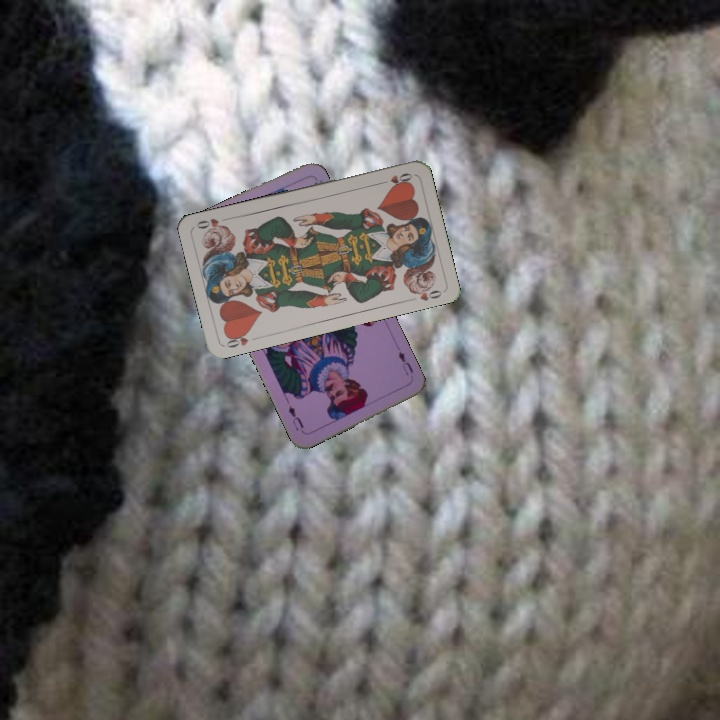EU: (394, 347, 416, 378)
HO: (222, 327, 261, 350), (375, 169, 415, 187)
